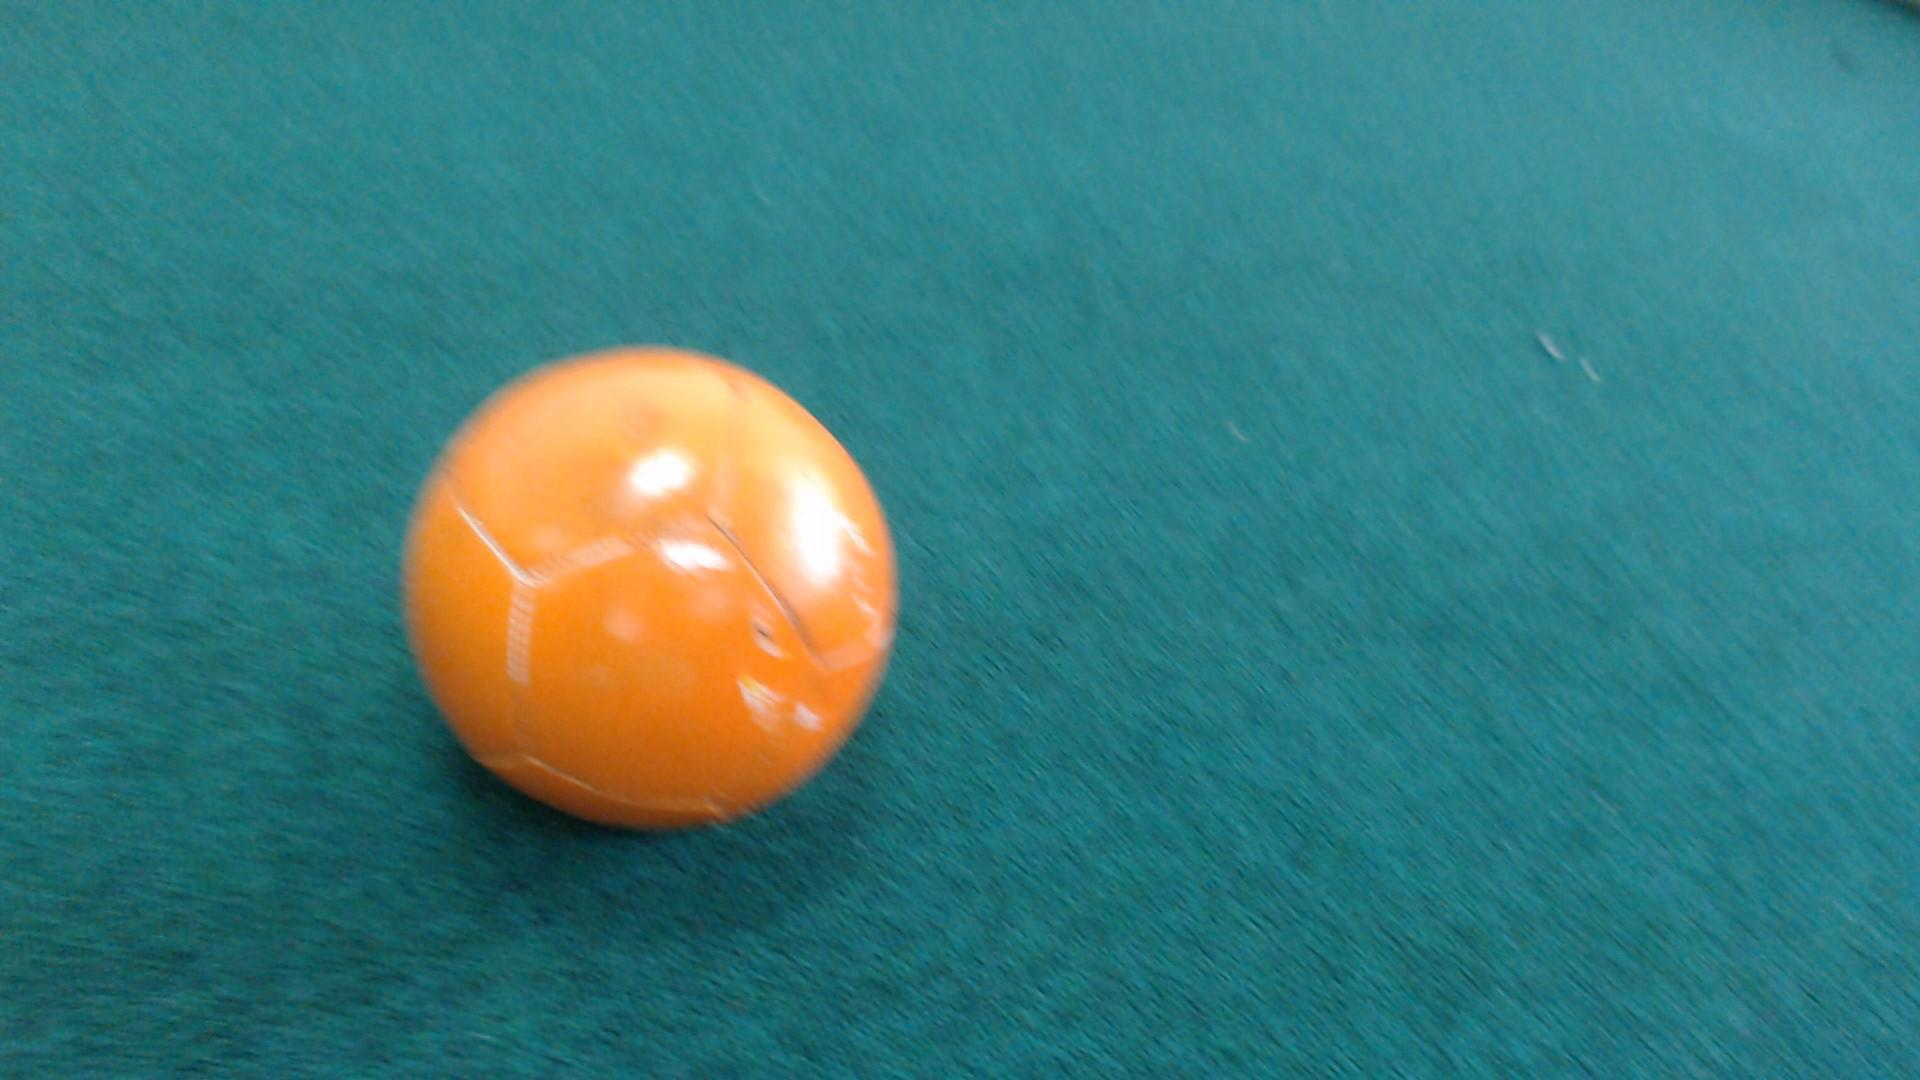bola: (364, 320, 930, 847)
